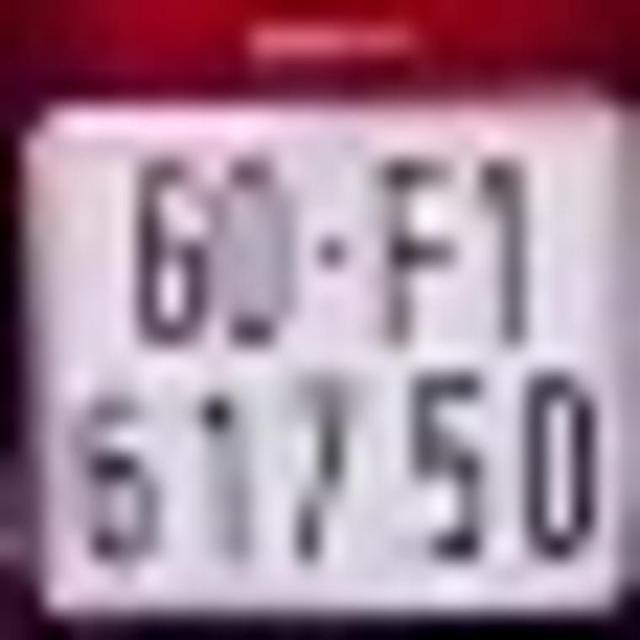0: (522, 364, 600, 556)
1: (481, 155, 536, 344)
5: (410, 371, 489, 559)
6: (131, 160, 212, 338)
F: (382, 154, 462, 349)
